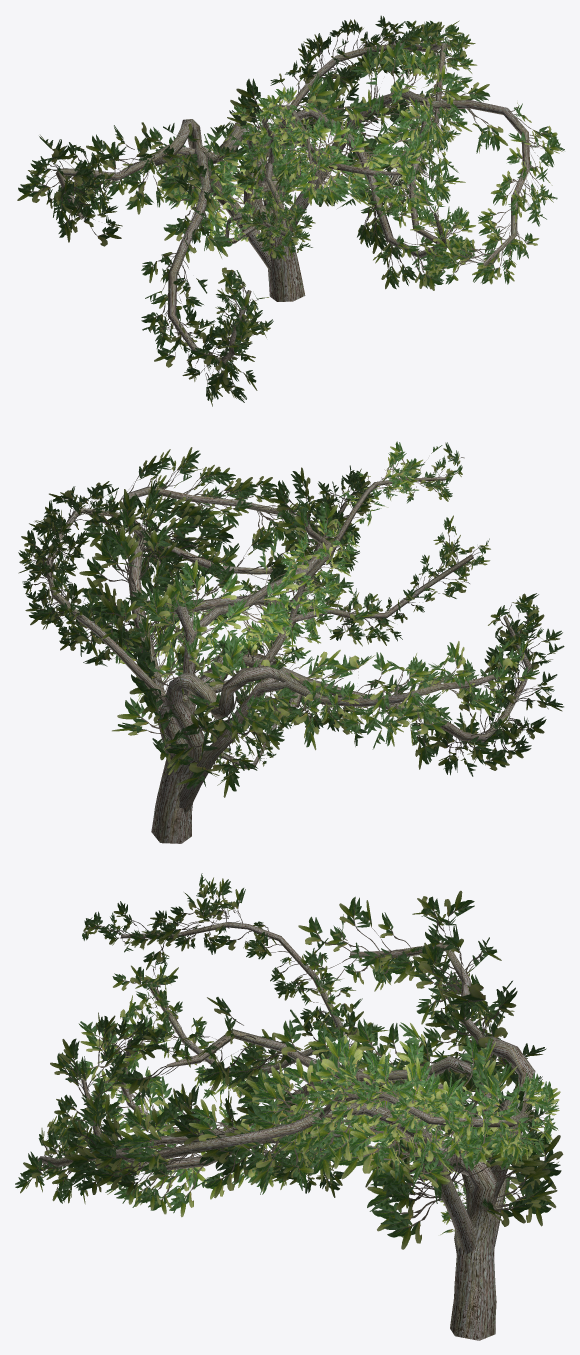
Rendered from SM_bushy_tree.fbx.
3 renders of one model, top to bottom at view 1: azimuth 30°, elevation 25°; view 2: azimuth 150°, elevation 25°; view 3: azimuth 270°, elevation 25°, orthographic. The views are drawn at different scales.
Visible parts, largest first — view 1: SM_bushy_tree_LOD0; view 2: SM_bushy_tree_LOD0; view 3: SM_bushy_tree_LOD0.
Boxes of the visible parts, bbox=[...] form: SM_bushy_tree_LOD0: bbox=[17, 15, 564, 406]; SM_bushy_tree_LOD0: bbox=[18, 441, 564, 843]; SM_bushy_tree_LOD0: bbox=[15, 873, 563, 1340].
Bounding box in the file's own units: 286 × 237 × 188.
2 materials, 2 textured.
